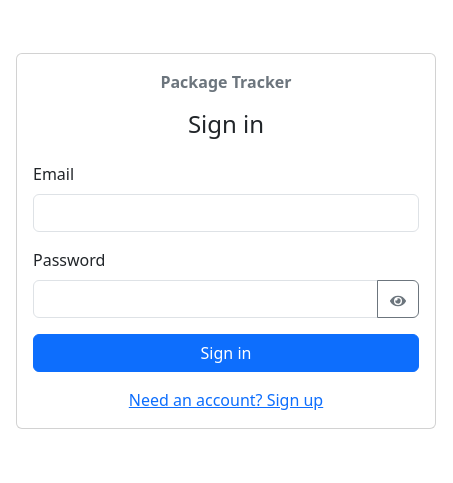
Test: <SignInPage> › shows the friendly INVALID_CREDENTIALS alert, clears the password, and restores focus
Type "a@b.c" into the field labelled "Email". click: (226, 213)
box: [33, 194, 419, 232]
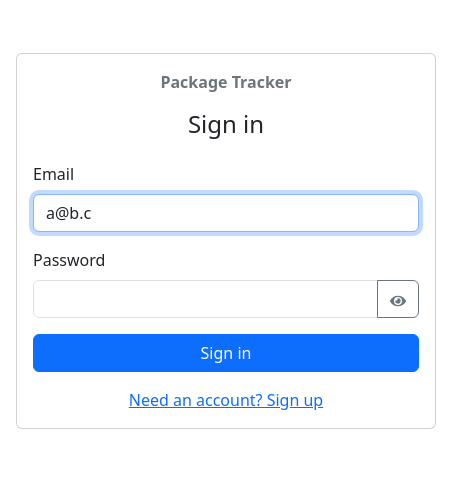
Type "wrong" into the password field labelled "Password". click: (206, 299)
box: [33, 280, 378, 318]
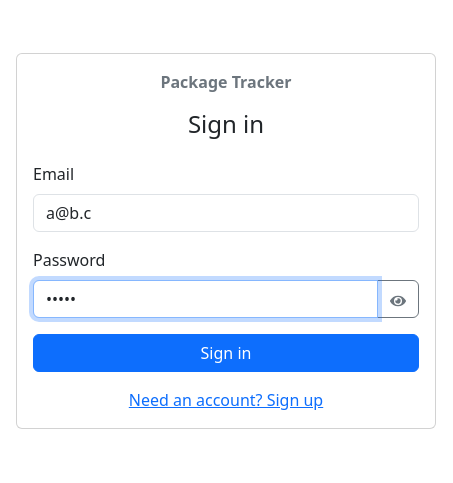
Click the button "Sign in". click: (226, 353)
box: [33, 334, 419, 372]
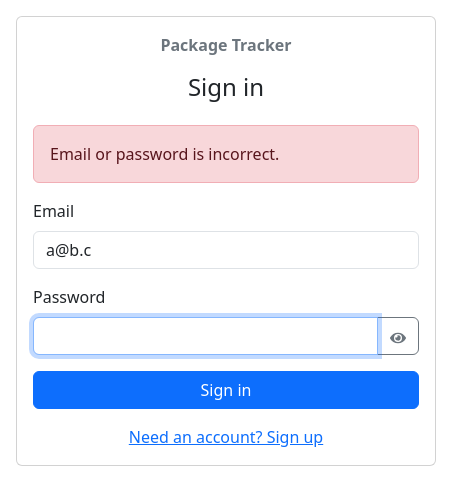
Expected: the message reads "Email or password is incorrect.", [50, 143, 279, 165]
Expected: the password field labelled "Password" is empty, [33, 317, 378, 355]
